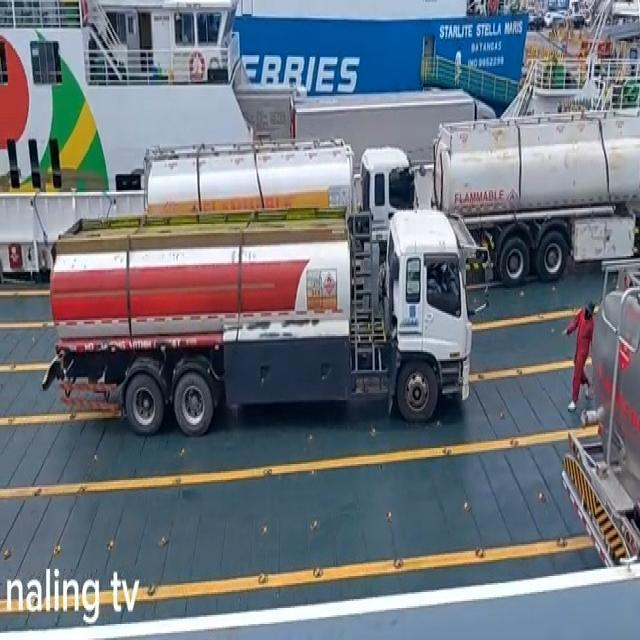truck: (47, 211, 470, 440), (436, 103, 640, 284), (144, 142, 420, 242), (562, 270, 640, 572)
